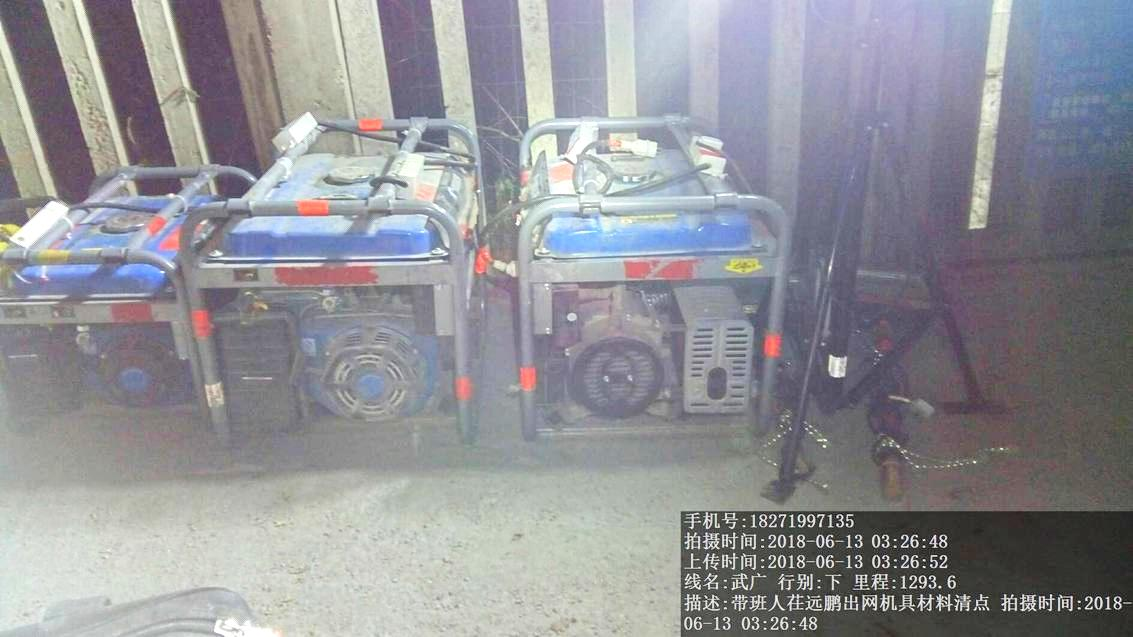DJ: (488, 110, 785, 443), (212, 121, 482, 444), (12, 163, 211, 426)
